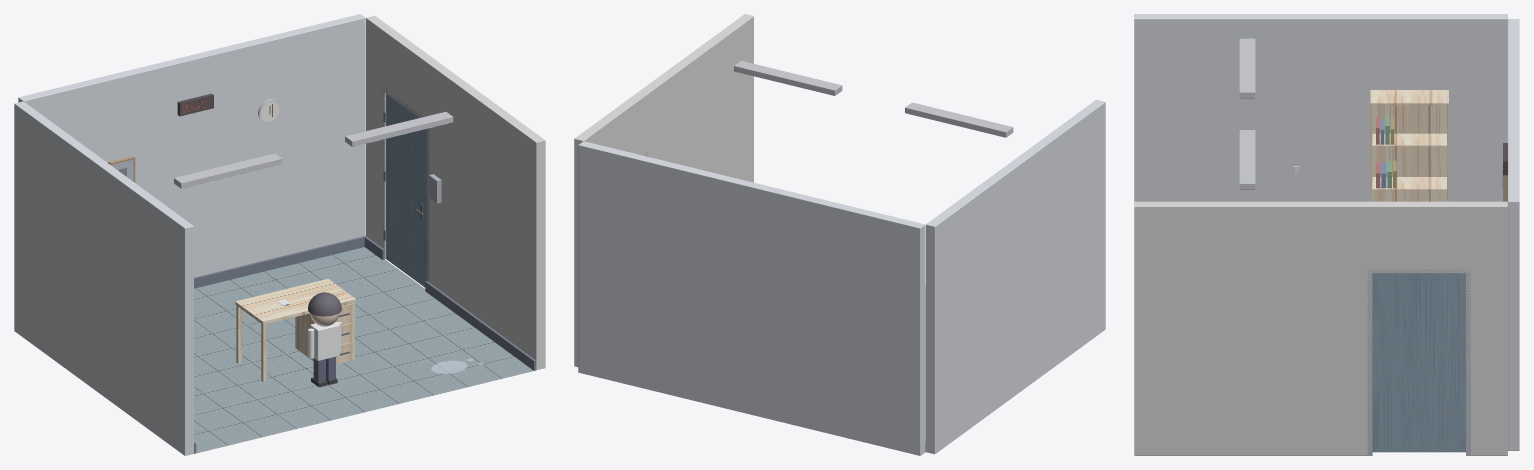
The model's file is room_b7.glb.
3 views of the same model, side by side, from view 1: azimuth 30°, elevation 25°; view 2: azimuth 150°, elevation 25°; view 3: azimuth 270°, elevation 25° (orthographic). The views are drawn at different scales.
Parts seen in each view (by area): view 1: B7_backwall_01, B7_leftwall_01, B7_ground_00, B7_rightwall_02, B7_door_08, B7_desk_09, B7_backwall_00, B7_rightwall_01, B7_lightl_00, B7_lightr_00, B7_character_13, B7_desk_06 (+2 smaller); view 2: B7_backwall_01, B7_leftwall_01, B7_rightwall_02, B7_lightl_00, B7_lightr_00; view 3: B7_rightwall_02, B7_leftwall_01, B7_door_08, B7_backwall_01, B7_bookshelf_00, B7_bookshelf_15, B7_door_01, B7_lightl_00, B7_lightr_00, B7_bookshelf_12, B7_bookshelf_11, B7_door_00 (+1 smaller).
Boxes of the visible parts, left/top/right/bottom form: B7_backwall_01: left=18, top=14, right=365, bottom=277; B7_leftwall_01: left=14, top=101, right=193, bottom=455; B7_ground_00: left=194, top=247, right=533, bottom=453; B7_rightwall_02: left=366, top=15, right=545, bottom=370; B7_door_08: left=386, top=94, right=427, bottom=287; B7_desk_09: left=235, top=278, right=356, bottom=324; B7_backwall_00: left=194, top=236, right=365, bottom=288; B7_rightwall_01: left=425, top=281, right=536, bottom=370; B7_lightl_00: left=174, top=153, right=282, bottom=188; B7_lightr_00: left=345, top=111, right=453, bottom=146; B7_character_13: left=310, top=322, right=339, bottom=360; B7_desk_06: left=295, top=302, right=354, bottom=364; B7_backwall_01: left=578, top=141, right=925, bottom=455; B7_leftwall_01: left=926, top=100, right=1105, bottom=454; B7_rightwall_02: left=574, top=14, right=753, bottom=367; B7_lightl_00: left=905, top=102, right=1013, bottom=137; B7_lightr_00: left=734, top=60, right=842, bottom=95; B7_rightwall_02: left=1134, top=201, right=1507, bottom=455; B7_leftwall_01: left=1134, top=14, right=1507, bottom=201; B7_door_08: left=1372, top=273, right=1465, bottom=452; B7_backwall_01: left=1508, top=19, right=1519, bottom=450; B7_bookshelf_00: left=1372, top=105, right=1446, bottom=201; B7_bookshelf_15: left=1370, top=90, right=1448, bottom=105; B7_door_01: left=1367, top=273, right=1372, bottom=455; B7_lightl_00: left=1239, top=38, right=1255, bottom=98; B7_lightr_00: left=1239, top=130, right=1255, bottom=189; B7_bookshelf_12: left=1372, top=133, right=1446, bottom=147; B7_bookshelf_11: left=1372, top=177, right=1446, bottom=191; B7_door_00: left=1466, top=273, right=1470, bottom=455.
Size of the model in its own units: 11.58 by 7 by 9.78.
Materials: 36 (3 with a texture image).
